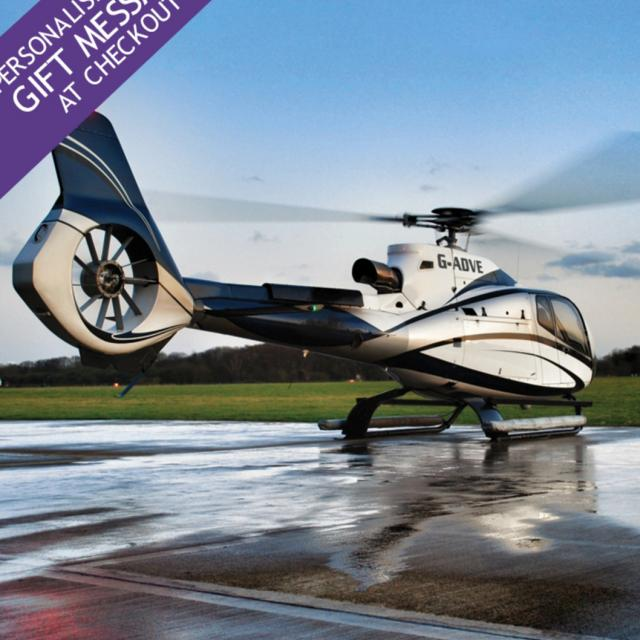helicopter: (18, 100, 613, 448)
